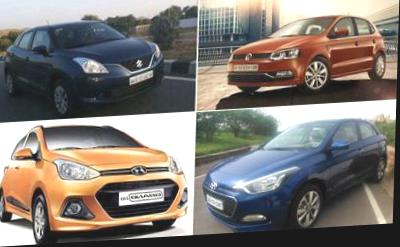License_Plate: (116, 183, 170, 209), (202, 187, 226, 218), (221, 62, 261, 78), (128, 69, 154, 85)
